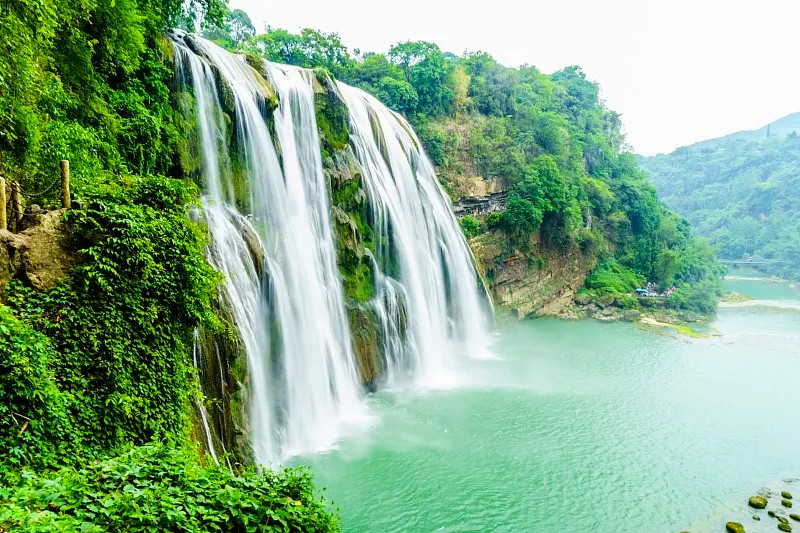Huangguoshu: (169, 27, 488, 469)
